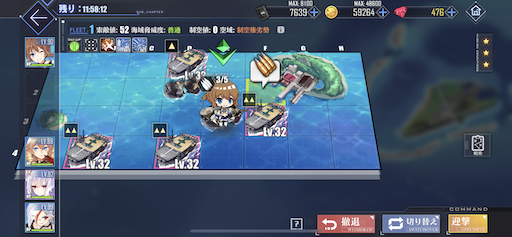lv1: (164, 38, 206, 80)
lv2: (62, 124, 110, 169), (242, 91, 286, 137), (152, 123, 198, 167)
